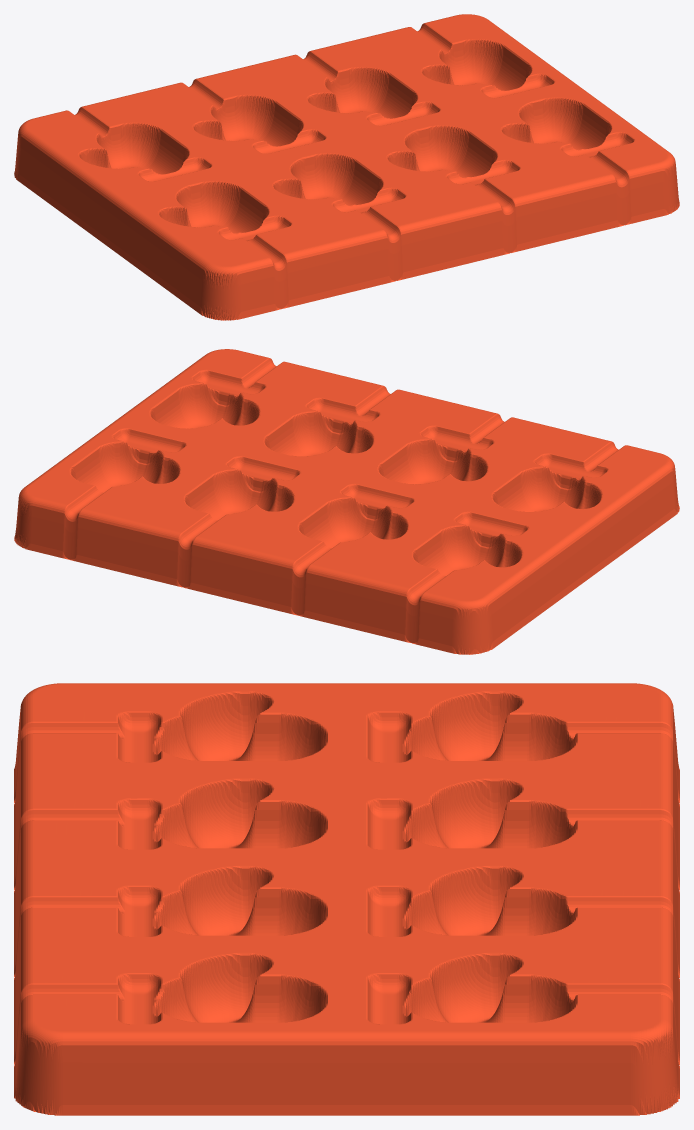
Rendered from mold.glb.
3 renders of one model, top to bottom at view 1: azimuth 30°, elevation 25°; view 2: azimuth 150°, elevation 25°; view 3: azimuth 270°, elevation 25°, orthographic. The views are drawn at different scales.
Visible parts, largest first — view 1: geometry_0; view 2: geometry_0; view 3: geometry_0.
Boxes of the visible parts, box(x1,y1,x2,y2) form: geometry_0: box(14, 14, 679, 320); geometry_0: box(14, 349, 679, 654); geometry_0: box(14, 683, 679, 1115).
Size of the model in its own units: 0.1587 by 0.0155 by 0.1229.
